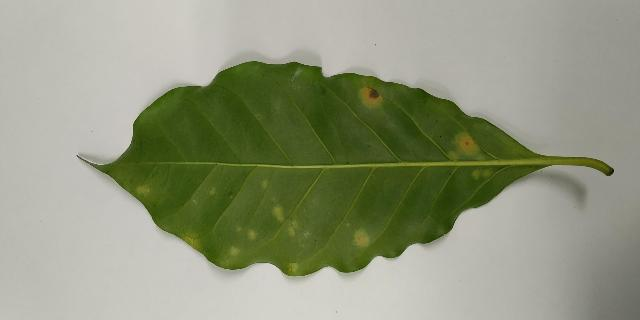miner: (448, 131, 483, 161), (359, 82, 382, 107), (181, 232, 201, 252), (353, 230, 370, 248), (288, 262, 302, 276), (472, 169, 491, 179), (272, 206, 283, 221), (288, 220, 298, 236), (136, 185, 150, 196), (230, 247, 241, 260), (248, 230, 256, 239), (262, 180, 267, 188), (211, 189, 215, 194)
